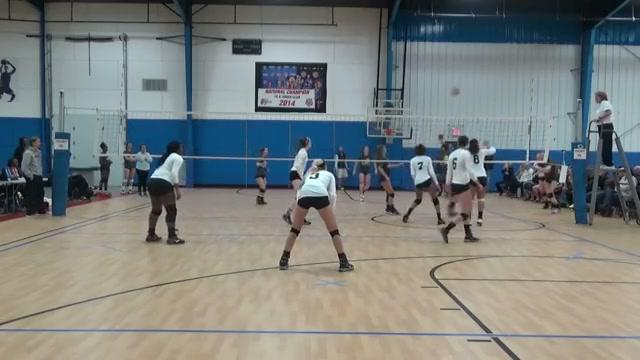ball: (449, 84, 463, 99)
